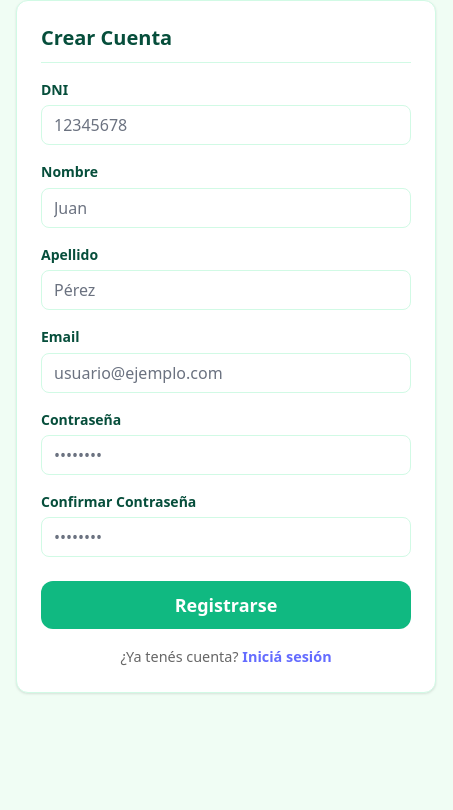
Register › valida DNI con formato incorrecto
Type "abc" into the field labelled "DNI" at [226, 125], box [41,105,411,145]
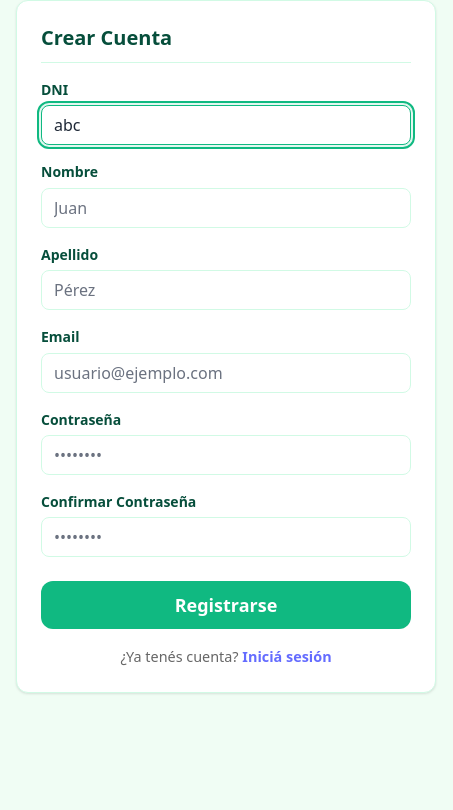
Click the button "Registrarse" at [226, 605], box [41,581,411,629]
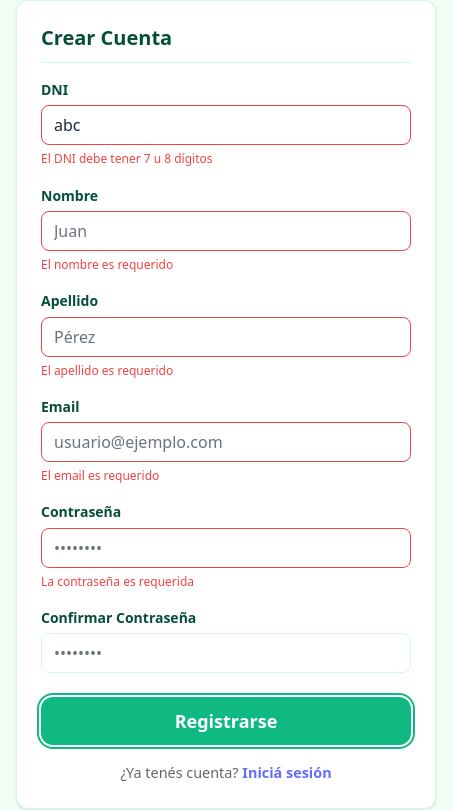
Expected: the text "El DNI debe tener 7 u 8 dígitos" is shown, [41,150,212,167]
